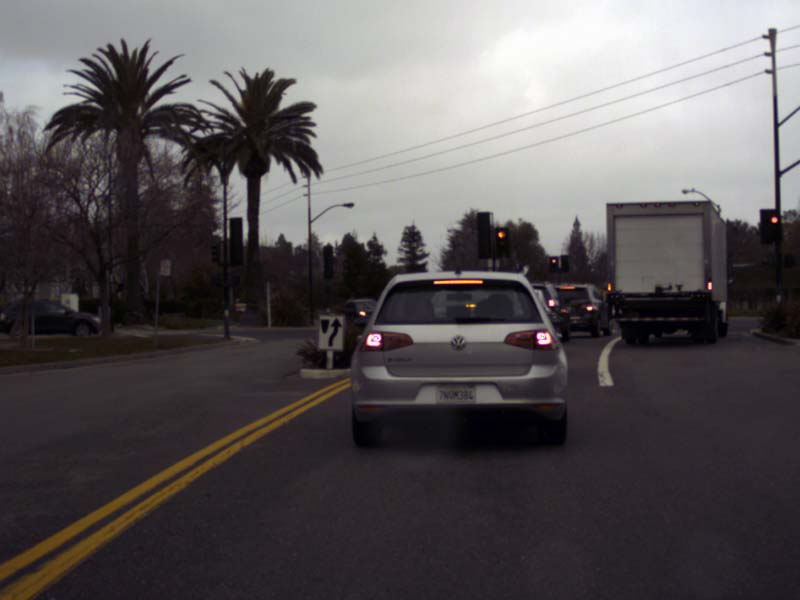Green: (561, 255, 569, 271)
Red: (496, 227, 509, 258), (767, 212, 781, 240), (549, 256, 558, 271)
